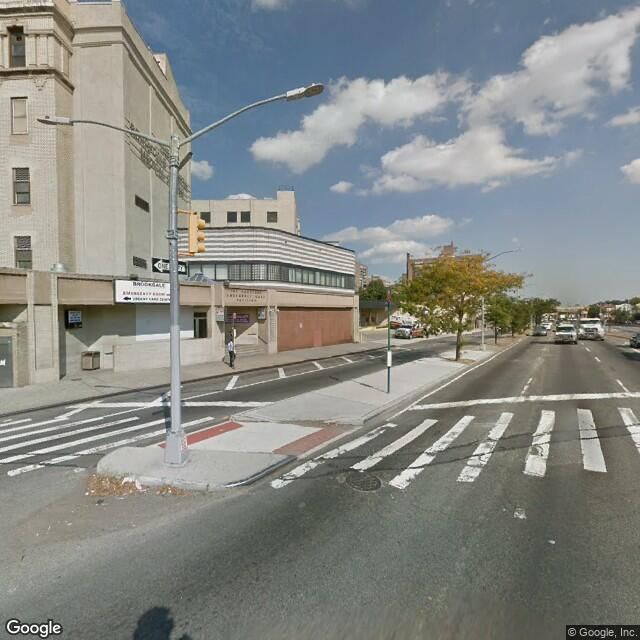litter: (116, 472, 148, 494)
